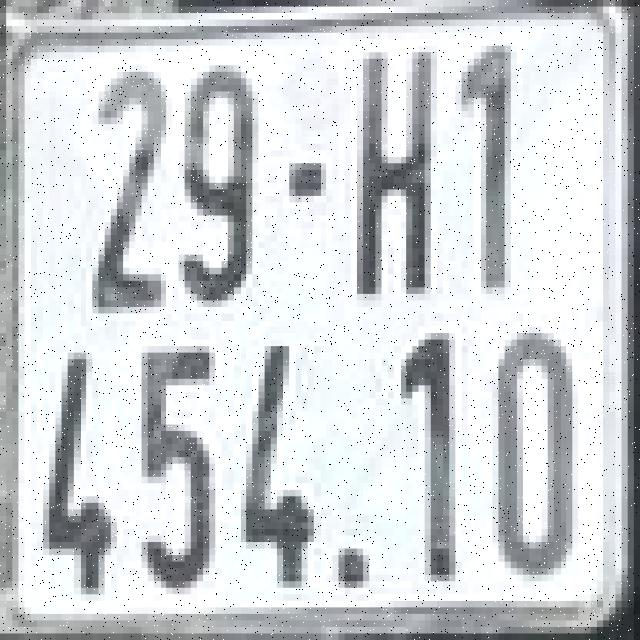0: (492, 327, 578, 581)
1: (397, 330, 465, 578), (458, 42, 520, 290)
2: (92, 69, 166, 310)
4: (240, 343, 320, 584), (43, 353, 117, 594)
5: (138, 346, 218, 588)
9: (178, 66, 258, 300)
H: (351, 49, 443, 297)
